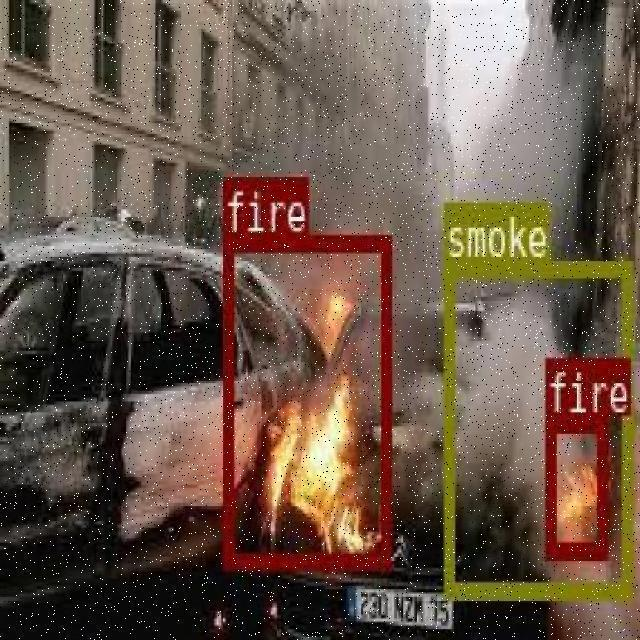Fire: (229, 249, 379, 557)
Smoke: (300, 10, 584, 244), (442, 258, 630, 594)
